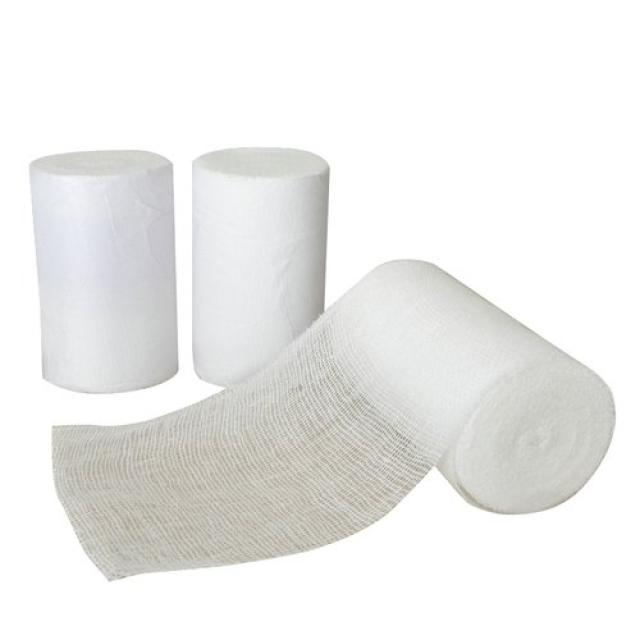B3: (293, 235, 634, 538), (9, 142, 186, 403), (184, 136, 343, 411)
